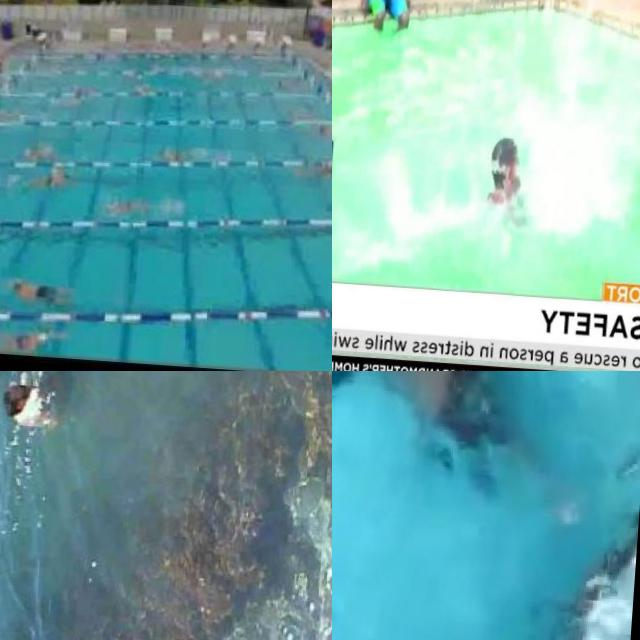drowning: (332, 371, 533, 499), (473, 128, 543, 240)
out of water: (354, 0, 418, 34)
swimming: (4, 371, 77, 434), (2, 266, 76, 312), (95, 193, 160, 229), (20, 162, 76, 195), (152, 134, 200, 168), (36, 84, 81, 110), (15, 138, 52, 166), (124, 74, 162, 100), (305, 160, 332, 190), (302, 122, 332, 138)
